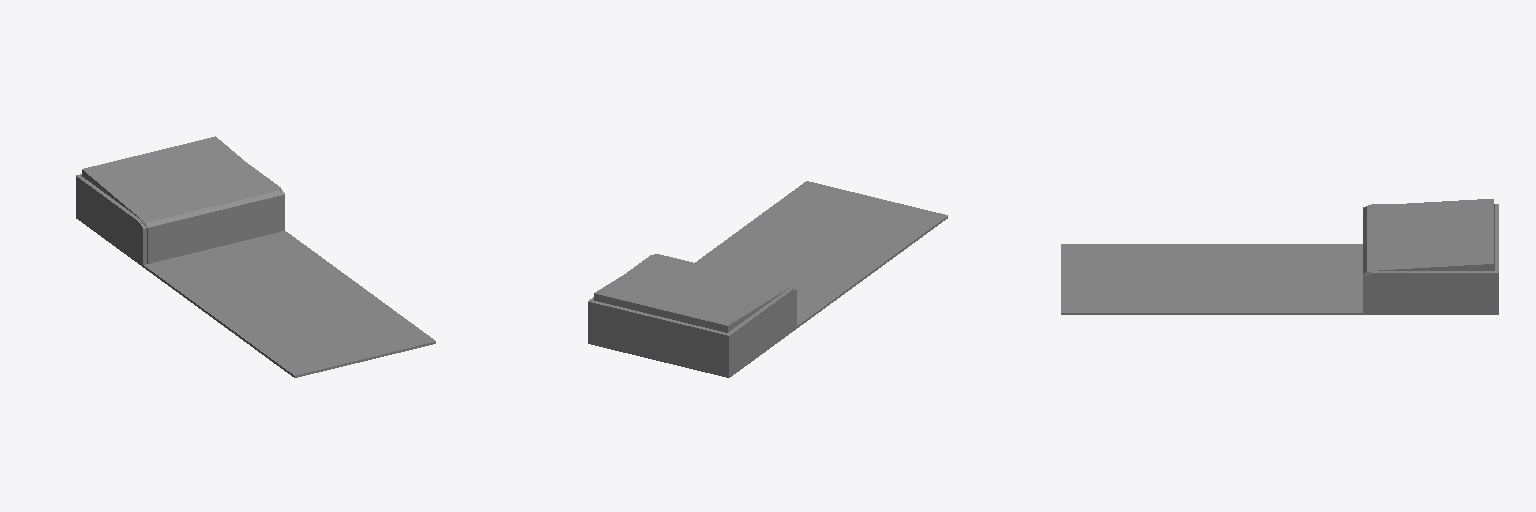
File: Airport.obj
3 renders of one model, left to right at view 1: azimuth 30°, elevation 25°; view 2: azimuth 150°, elevation 25°; view 3: azimuth 270°, elevation 25°, orthographic.
Parts seen in each view (by area): view 1: Box06; view 2: Box06; view 3: Box06.
Part boxes in pixels (left/top/right/bottom): Box06: left=76, top=136, right=435, bottom=377; Box06: left=588, top=181, right=947, bottom=377; Box06: left=1061, top=199, right=1498, bottom=314.
Size of the model in its own units: 5.97 by 2 by 15.99.